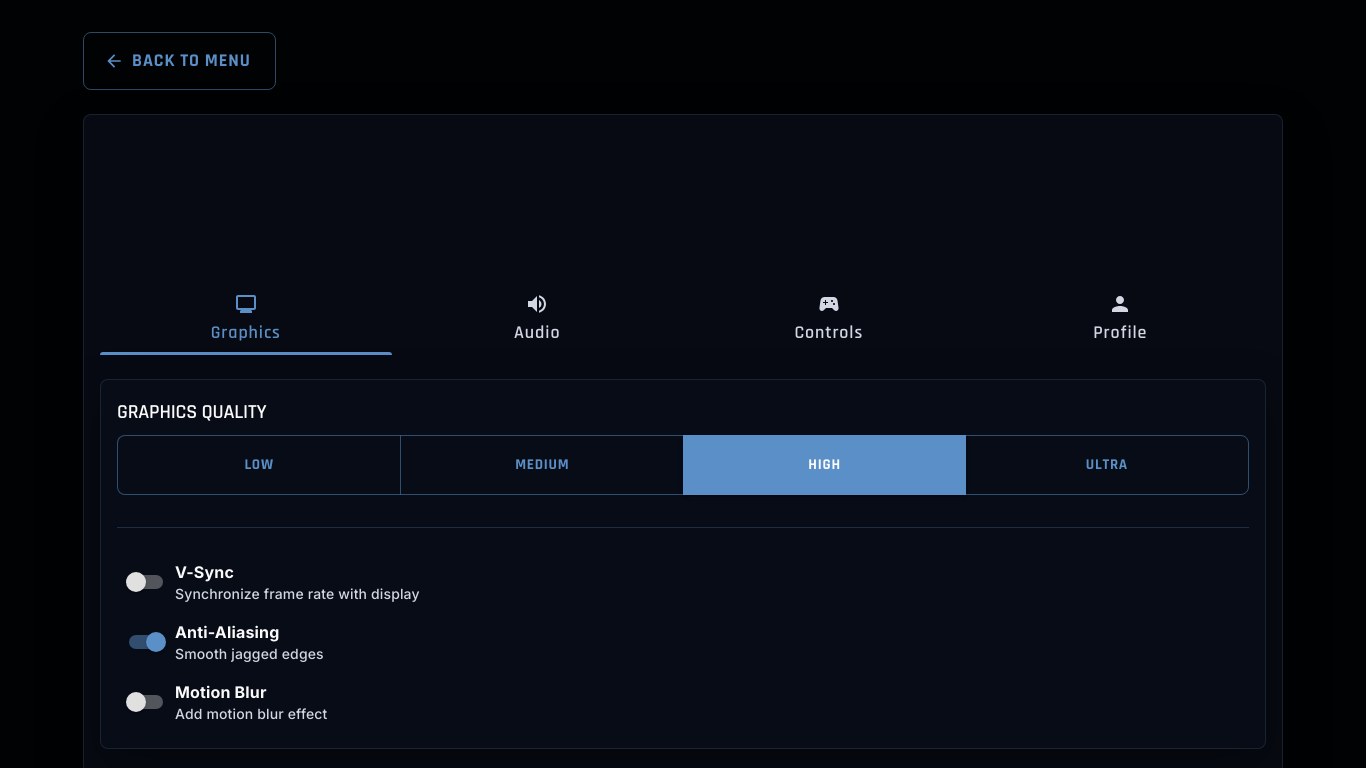
Test: top-level screens › switches settings tabs
Step 1. Click the tab "Audio" → (537, 318), box x1=392 y1=282 x2=683 y2=354
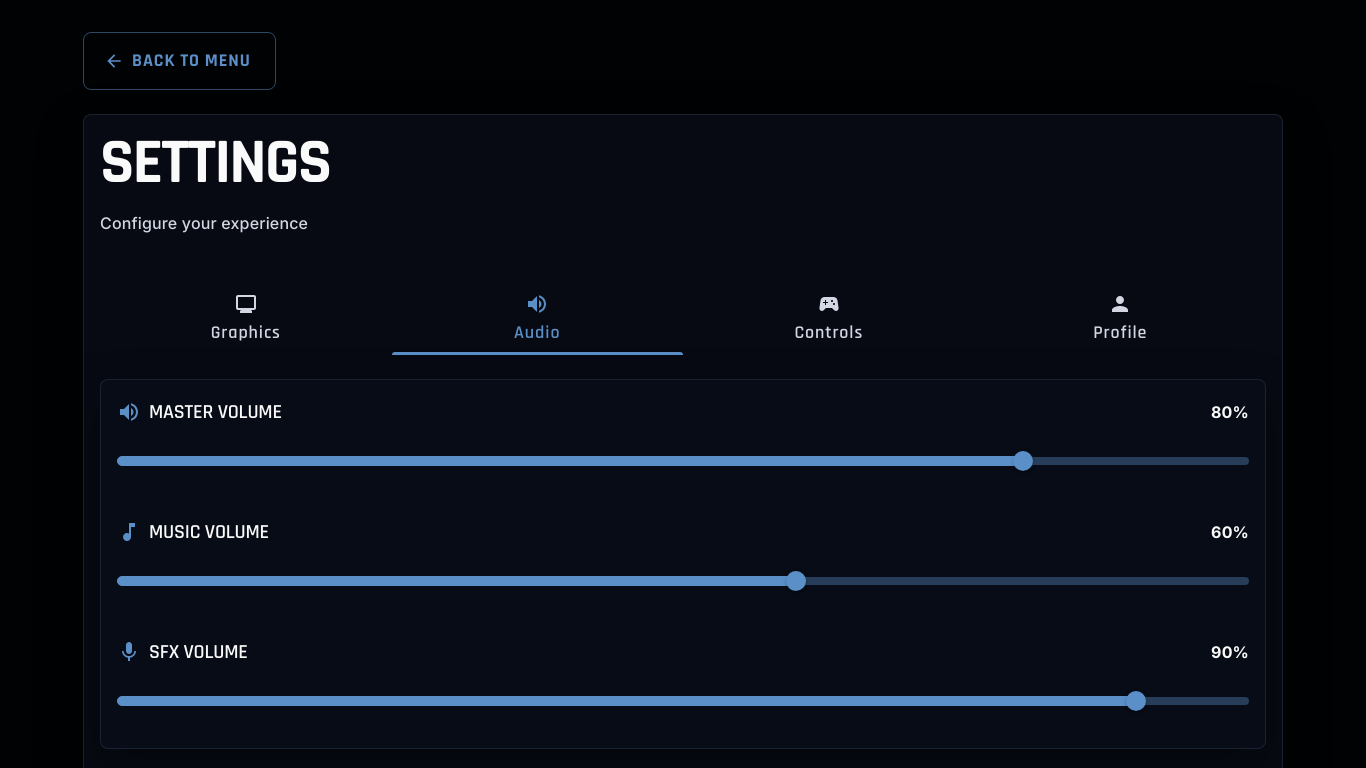
Check: the heading "Master Volume" is shown, box x1=149 y1=396 x2=282 y2=428
